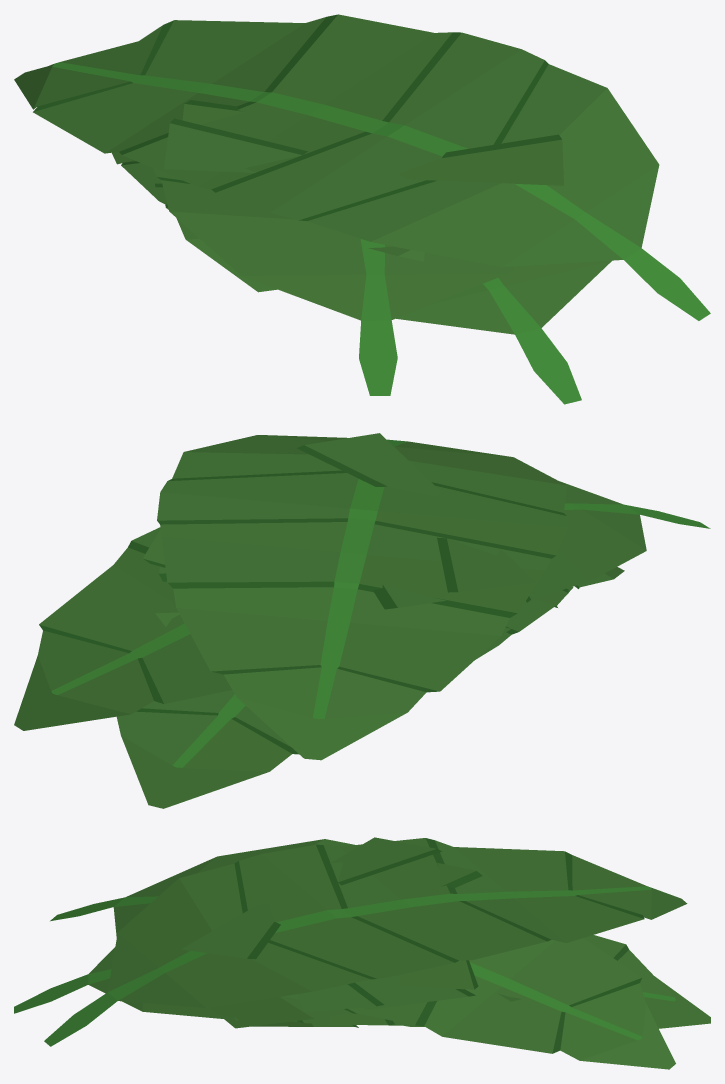
Rendered from mint.fbx.
The picture shows the model from 3 angles, top to bottom: view 1: azimuth 30°, elevation 25°; view 2: azimuth 150°, elevation 25°; view 3: azimuth 270°, elevation 25°; orthographic projection. The views are drawn at different scales.
Visible parts, largest first — view 1: MintBasic, MintCut; view 2: MintBasic, MintCut; view 3: MintBasic, MintCut.
Part boxes in pixels (left/top/right/bottom): MintBasic: left=14, top=14, right=710, bottom=404; MintCut: left=155, top=100, right=563, bottom=292; MintBasic: left=14, top=435, right=710, bottom=808; MintCut: left=143, top=433, right=624, bottom=634; MintBasic: left=14, top=838, right=710, bottom=1069; MintCut: left=181, top=837, right=521, bottom=1028.
Bounding box in the file's own units: 218 × 68.62 × 362.
